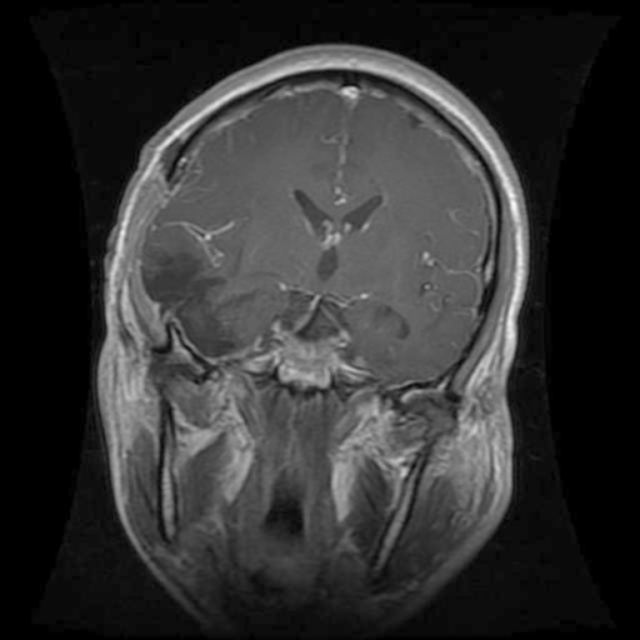pituitary tumor: (282, 334, 346, 388)
